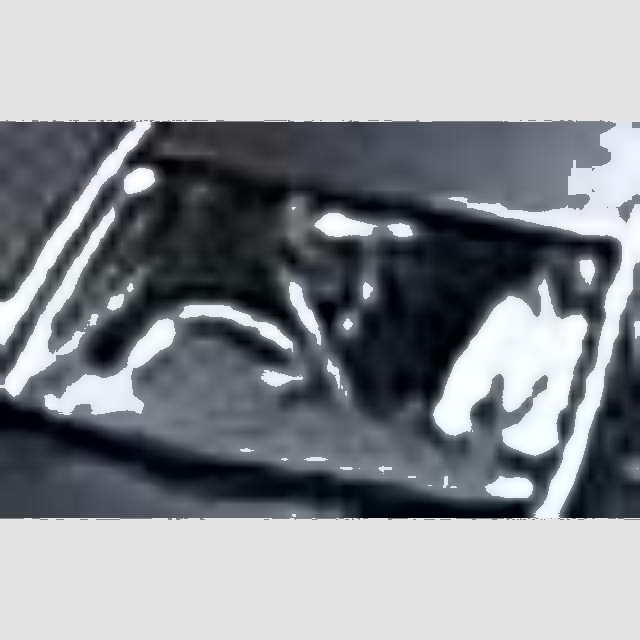pakai: (180, 203, 397, 392), (433, 239, 613, 437)
